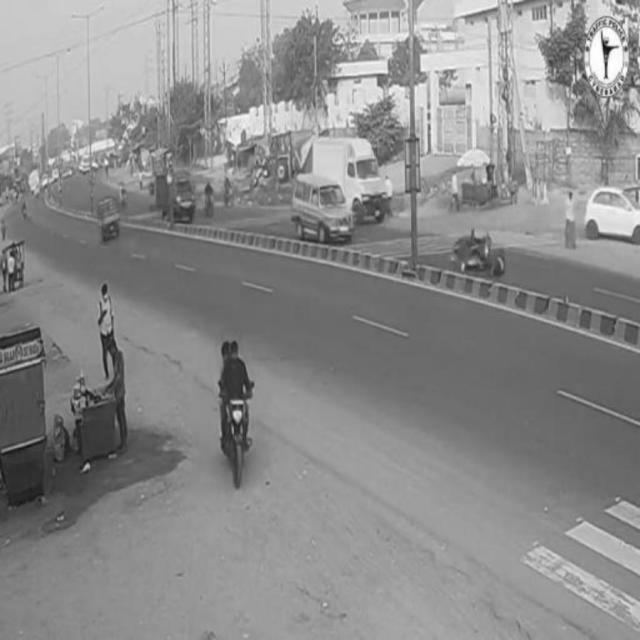accident: (449, 229, 509, 283)
person: (98, 284, 116, 386), (111, 346, 129, 446)
vehicle: (312, 137, 388, 221), (218, 338, 256, 476), (294, 176, 351, 243), (584, 184, 640, 244), (156, 176, 194, 221)
